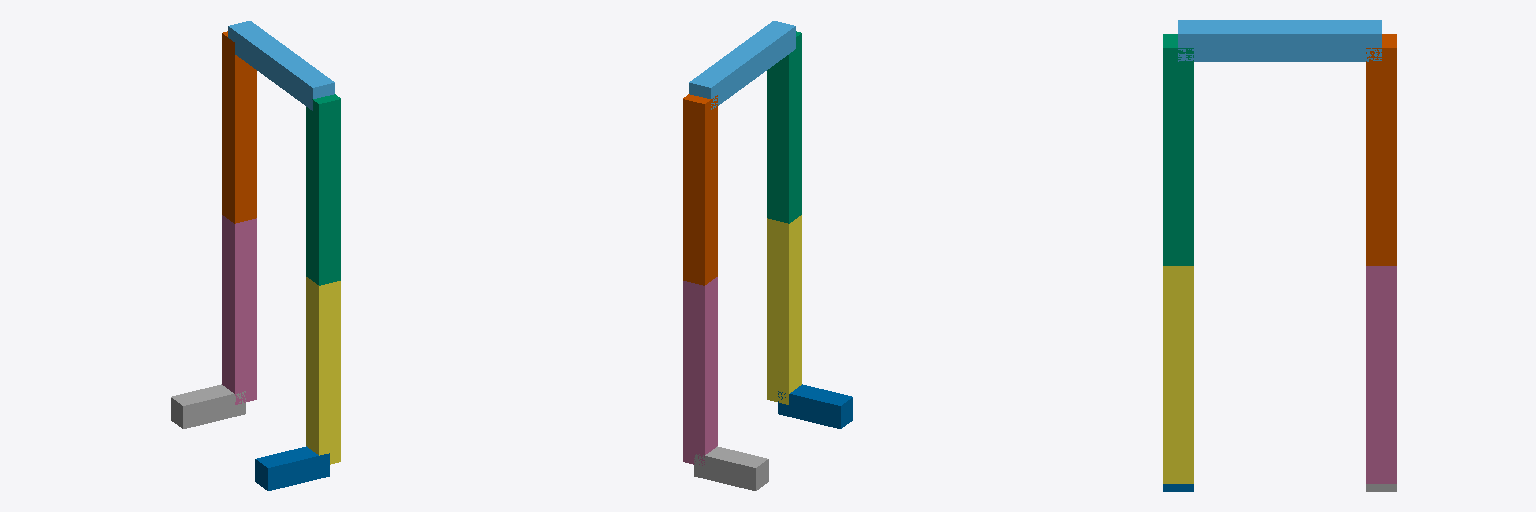
robot.urdf — march:
<?xml version="1.0" ?>
<!-- =================================================================================== -->
<!-- |    This document was autogenerated by xacro from ../../../../ros2/src/shared/march_description/urdf/march3.xacro | -->
<!-- |    EDITING THIS FILE BY HAND IS NOT RECOMMENDED                                 | -->
<!-- =================================================================================== -->
<!-- Revolute-Revolute Manipulator -->
<robot name="march">
  <!-- Square dimensions (widthxwidth) of beams -->
  <!-- rad/s -->
  <!-- Space btw top of beam and the each joint -->
  <gazebo>
    <plugin filename="libgazebo_ros_control.so" name="gazebo_ros_control">
      <robotNamespace>/march</robotNamespace>
      <robotSimType>gazebo_ros_control/DefaultRobotHWSim</robotSimType>
    </plugin>
  </gazebo>
  <plugin filename="libgazebo_ros_control.so" name="gazebo_ros_control">
    <robotNamespace>/march</robotNamespace>
  </plugin>
  <!-- Used for fixing robot to Gazebo 'base_link' -->
  <link name="world"/>
  <joint name="hip" type="fixed">
    <parent link="world"/>
    <child link="hip_bone"/>
    <origin rpy="0 0 0" xyz="0 0 1.08"/>
  </joint>
  <joint name="left_hip" type="revolute">
    <parent link="hip_bone"/>
    <child link="upper_leg_left"/>
    <origin rpy="0 0 0" xyz="0 -0.165 0"/>
    <axis xyz="0 1 0"/>
    <limit effort="1000.0" lower="-0.2617993877991494" upper="1.8325957145940461" velocity="1000.0"/>
  </joint>
  <joint name="left_knee" type="revolute">
    <parent link="upper_leg_left"/>
    <child link="lower_leg_left"/>
    <origin rpy="0 0 0" xyz="0 0 -0.39"/>
    <axis xyz="0 -1 0"/>
    <limit effort="1000.0" lower="-0.2617993877991494" upper="1.8325957145940461" velocity="1000.0"/>
  </joint>
  <joint name="left_ankle" type="revolute">
    <parent link="lower_leg_left"/>
    <child link="foot_left"/>
    <origin rpy="0 0 0" xyz="0 0 -0.39"/>
    <axis xyz="0 1 0"/>
    <limit effort="1000.0" lower="-0.2617993877991494" upper="0.3490658503988659" velocity="1000.0"/>
  </joint>
  <joint name="right_hip" type="revolute">
    <parent link="hip_bone"/>
    <child link="upper_leg_right"/>
    <origin rpy="0 0 0" xyz="0 0.165 0"/>
    <axis xyz="0 1 0"/>
    <limit effort="1000.0" lower="-0.2617993877991494" upper="1.8325957145940461" velocity="1000.0"/>
  </joint>
  <joint name="right_knee" type="revolute">
    <parent link="upper_leg_right"/>
    <child link="lower_leg_right"/>
    <origin rpy="0 0 0" xyz="0 0 -0.39"/>
    <axis xyz="0 -1 0"/>
    <limit effort="1000.0" lower="-0.2617993877991494" upper="1.8325957145940461" velocity="1000.0"/>
  </joint>
  <joint name="right_ankle" type="revolute">
    <parent link="lower_leg_right"/>
    <child link="foot_right"/>
    <origin rpy="0 0 0" xyz="0 0 -0.39"/>
    <axis xyz="0 1 0"/>
    <limit effort="1000.0" lower="-0.2617993877991494" upper="0.3490658503988659" velocity="1000.0"/>
  </joint>
  <!-- give colors to some links in gazebo -->
  <gazebo reference="hip_bone">
    <material>Gazebo/Blue</material>
  </gazebo>
  <gazebo reference="foot_left">
    <material>Gazebo/Blue</material>
  </gazebo>
  <gazebo reference="foot_right">
    <material>Gazebo/Blue</material>
  </gazebo>
  <!-- Hip-->
  <link name="hip_bone">
    <visual>
      <origin rpy="0 0 0" xyz="0 0 0"/>
      <geometry>
        <box size="0.05 0.33 0.05"/>
      </geometry>
    </visual>
    <inertial>
      <origin rpy="0 0 0" xyz="0 0 0"/>
      <mass value="1"/>
      <inertia ixx="0.012883333333333333" ixy="0.0" ixz="0.0" iyy="0.012883333333333333" iyz="0.0" izz="0.00041666666666666675"/>
    </inertial>
  </link>
  <!-- Upper Leg Left-->
  <link name="upper_leg_left">
    <visual>
      <origin rpy="0 0 0" xyz="0 0 -0.195"/>
      <geometry>
        <box size="0.05 0.05 0.39"/>
      </geometry>
    </visual>
    <inertial>
      <origin rpy="0 0 0" xyz="0 0 -0.195"/>
      <mass value="1.08"/>
      <inertia ixx="0.012883333333333333" ixy="0.0" ixz="0.0" iyy="0.012883333333333333" iyz="0.0" izz="0.00041666666666666675"/>
    </inertial>
  </link>
  <!-- Lower Leg Left -->
  <link name="lower_leg_left">
    <visual>
      <origin rpy="0 0 0" xyz="0 0 -0.195"/>
      <geometry>
        <box size="0.05 0.05 0.39"/>
      </geometry>
    </visual>
    <inertial>
      <origin rpy="0 0 0" xyz="0 0 -0.195"/>
      <mass value="1.133"/>
      <inertia ixx="0.012883333333333333" ixy="0.0" ixz="0.0" iyy="0.012883333333333333" iyz="0.0" izz="0.00041666666666666675"/>
    </inertial>
  </link>
  <!-- Foot Left -->
  <link name="foot_left">
    <visual>
      <origin rpy="0 0 0" xyz="-0.07 0 0"/>
      <geometry>
        <box size="0.14 0.05 0.05"/>
      </geometry>
    </visual>
    <inertial>
      <origin rpy="0 0 0" xyz="-0.07 0 0"/>
      <mass value="0.393"/>
      <inertia ixx="0.012883333333333333" ixy="0.0" ixz="0.0" iyy="0.012883333333333333" iyz="0.0" izz="0.00041666666666666675"/>
    </inertial>
    <collision>
      <geometry>
        <box size="0.14 0.05 0.05"/>
      </geometry>
    </collision>
  </link>
  <!-- Upper Leg Right-->
  <link name="upper_leg_right">
    <visual>
      <origin rpy="0 0 0" xyz="0 0 -0.195"/>
      <geometry>
        <box size="0.05 0.05 0.39"/>
      </geometry>
    </visual>
    <inertial>
      <origin rpy="0 0 0" xyz="0 0 -0.195"/>
      <mass value="1.08"/>
      <inertia ixx="0.012883333333333333" ixy="0.0" ixz="0.0" iyy="0.012883333333333333" iyz="0.0" izz="0.00041666666666666675"/>
    </inertial>
  </link>
  <!-- Lower Leg Right -->
  <link name="lower_leg_right">
    <visual>
      <origin rpy="0 0 0" xyz="0 0 -0.195"/>
      <geometry>
        <box size="0.05 0.05 0.39"/>
      </geometry>
    </visual>
    <inertial>
      <origin rpy="0 0 0" xyz="0 0 -0.195"/>
      <mass value="1.133"/>
      <inertia ixx="0.012883333333333333" ixy="0.0" ixz="0.0" iyy="0.012883333333333333" iyz="0.0" izz="0.00041666666666666675"/>
    </inertial>
  </link>
  <!-- Foot Right -->
  <link name="foot_right">
    <visual>
      <origin rpy="0 0 0" xyz="-0.07 0 0"/>
      <geometry>
        <box size="0.14 0.05 0.05"/>
      </geometry>
    </visual>
    <inertial>
      <origin rpy="0 0 0" xyz="-0.07 0 0"/>
      <mass value="1"/>
      <inertia ixx="0.012883333333333333" ixy="0.0" ixz="0.0" iyy="0.012883333333333333" iyz="0.0" izz="0.00041666666666666675"/>
    </inertial>
    <collision>
      <geometry>
        <box size="0.14 0.05 0.05"/>
      </geometry>
    </collision>
  </link>
  <!-- ROS Control plugin for Gazebo -->
  <transmission name="left_hip">
    <type>transmission_interface/SimpleTransmission</type>
    <joint name="left_hip">
      <hardwareInterface>hardware_interface/EffortJointInterface</hardwareInterface>
    </joint>
    <actuator name="left_hip_motor">
      <hardwareInterface>hardware_interface/EffortJointInterface</hardwareInterface>
      <mechanicalReduction>1</mechanicalReduction>
    </actuator>
  </transmission>
  <transmission name="left_knee">
    <type>transmission_interface/SimpleTransmission</type>
    <joint name="left_knee">
      <hardwareInterface>hardware_interface/EffortJointInterface</hardwareInterface>
    </joint>
    <actuator name="left_knee_motor">
      <hardwareInterface>hardware_interface/EffortJointInterface</hardwareInterface>
      <mechanicalReduction>1</mechanicalReduction>
    </actuator>
  </transmission>
  <transmission name="left_ankle">
    <type>transmission_interface/SimpleTransmission</type>
    <joint name="left_ankle">
      <hardwareInterface>hardware_interface/EffortJointInterface</hardwareInterface>
    </joint>
    <actuator name="left_ankle_motor">
      <hardwareInterface>hardware_interface/EffortJointInterface</hardwareInterface>
      <mechanicalReduction>1</mechanicalReduction>
    </actuator>
  </transmission>
  <transmission name="right_hip">
    <type>transmission_interface/SimpleTransmission</type>
    <joint name="right_hip">
      <hardwareInterface>hardware_interface/EffortJointInterface</hardwareInterface>
    </joint>
    <actuator name="right_hip_motor">
      <hardwareInterface>hardware_interface/EffortJointInterface</hardwareInterface>
      <mechanicalReduction>1</mechanicalReduction>
    </actuator>
  </transmission>
  <transmission name="right_knee">
    <type>transmission_interface/SimpleTransmission</type>
    <joint name="right_knee">
      <hardwareInterface>hardware_interface/EffortJointInterface</hardwareInterface>
    </joint>
    <actuator name="right_knee_motor">
      <hardwareInterface>hardware_interface/EffortJointInterface</hardwareInterface>
      <mechanicalReduction>1</mechanicalReduction>
    </actuator>
  </transmission>
  <transmission name="right_ankle">
    <type>transmission_interface/SimpleTransmission</type>
    <joint name="right_ankle">
      <hardwareInterface>hardware_interface/EffortJointInterface</hardwareInterface>
    </joint>
    <actuator name="right_ankle_motor">
      <hardwareInterface>hardware_interface/EffortJointInterface</hardwareInterface>
      <mechanicalReduction>1</mechanicalReduction>
    </actuator>
  </transmission>
</robot>

--- Facts derived from the render (not from the file) ---
The picture shows the robot from 3 angles, left to right: view 1: azimuth 30°, elevation 25°; view 2: azimuth 150°, elevation 25°; view 3: azimuth 270°, elevation 25°; orthographic projection.
Model march with 8 links and 7 joints (6 revolute, 1 fixed), rooted at world, posed all joints at 0.
Visible links, largest first — view 1: upper_leg_left, lower_leg_right, lower_leg_left, upper_leg_right, hip_bone, foot_left, foot_right; view 2: upper_leg_right, lower_leg_left, lower_leg_right, upper_leg_left, hip_bone, foot_right, foot_left; view 3: hip_bone, upper_leg_left, upper_leg_right, lower_leg_left, lower_leg_right.
Link boxes in pixels (box(x1,y1,x2,y2)): upper_leg_left: box(306, 94, 340, 285); lower_leg_right: box(222, 215, 256, 404); lower_leg_left: box(306, 277, 340, 464); upper_leg_right: box(222, 31, 256, 223); hip_bone: box(228, 21, 334, 110); foot_left: box(255, 446, 329, 490); foot_right: box(171, 384, 245, 428); upper_leg_right: box(683, 94, 717, 285); lower_leg_left: box(767, 215, 801, 404); lower_leg_right: box(683, 277, 717, 465); upper_leg_left: box(767, 31, 801, 223); hip_bone: box(689, 21, 795, 109); foot_right: box(694, 446, 768, 490); foot_left: box(778, 384, 852, 428); hip_bone: box(1178, 20, 1381, 61); upper_leg_left: box(1163, 34, 1193, 265); upper_leg_right: box(1366, 34, 1396, 265); lower_leg_left: box(1163, 266, 1193, 483); lower_leg_right: box(1366, 266, 1396, 483).
Size in the robot's own frame: 0.165 by 0.38 by 0.83 metres.
Geometry: primitives only (box / cylinder / sphere), no mesh files.
